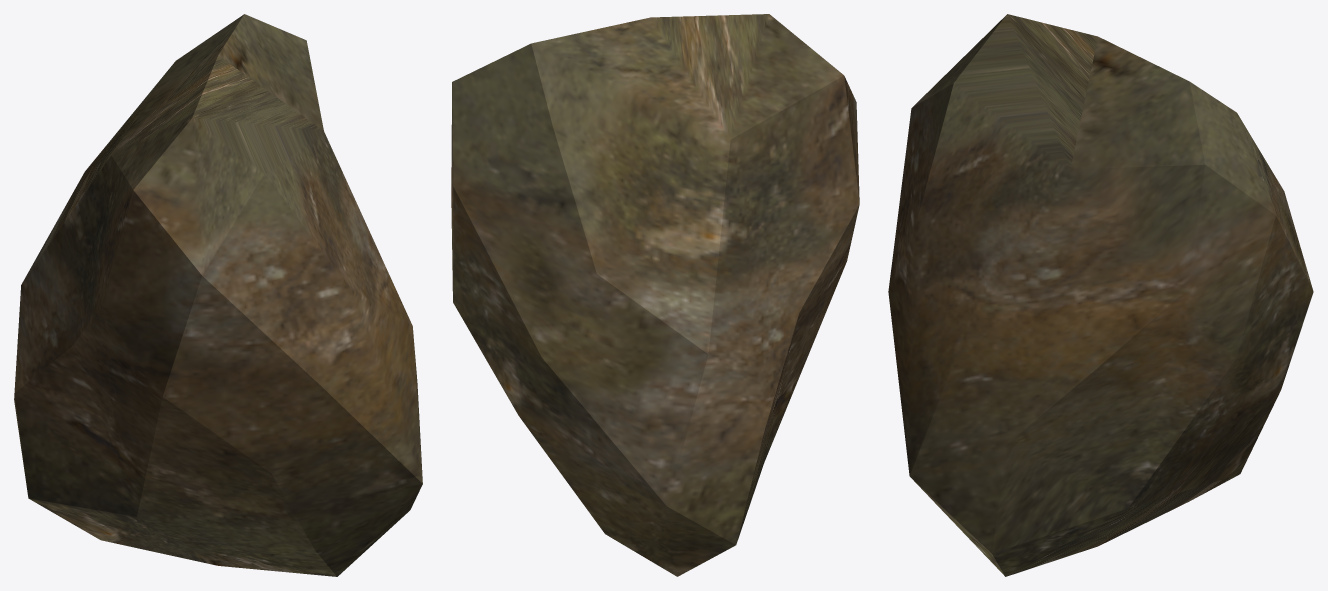
File: rock2.fbx
The picture shows the model from 3 angles, left to right: view 1: azimuth 30°, elevation 25°; view 2: azimuth 150°, elevation 25°; view 3: azimuth 270°, elevation 25°; orthographic projection.
Parts seen in each view (by area): view 1: rock.002; view 2: rock.002; view 3: rock.002.
Part boxes in pixels (x1,y1,x2,y2): rock.002: (14, 14, 422, 576); rock.002: (451, 14, 859, 576); rock.002: (888, 14, 1313, 576).
Size of the model in its own units: 0.6181 by 0.9551 by 0.7218.
